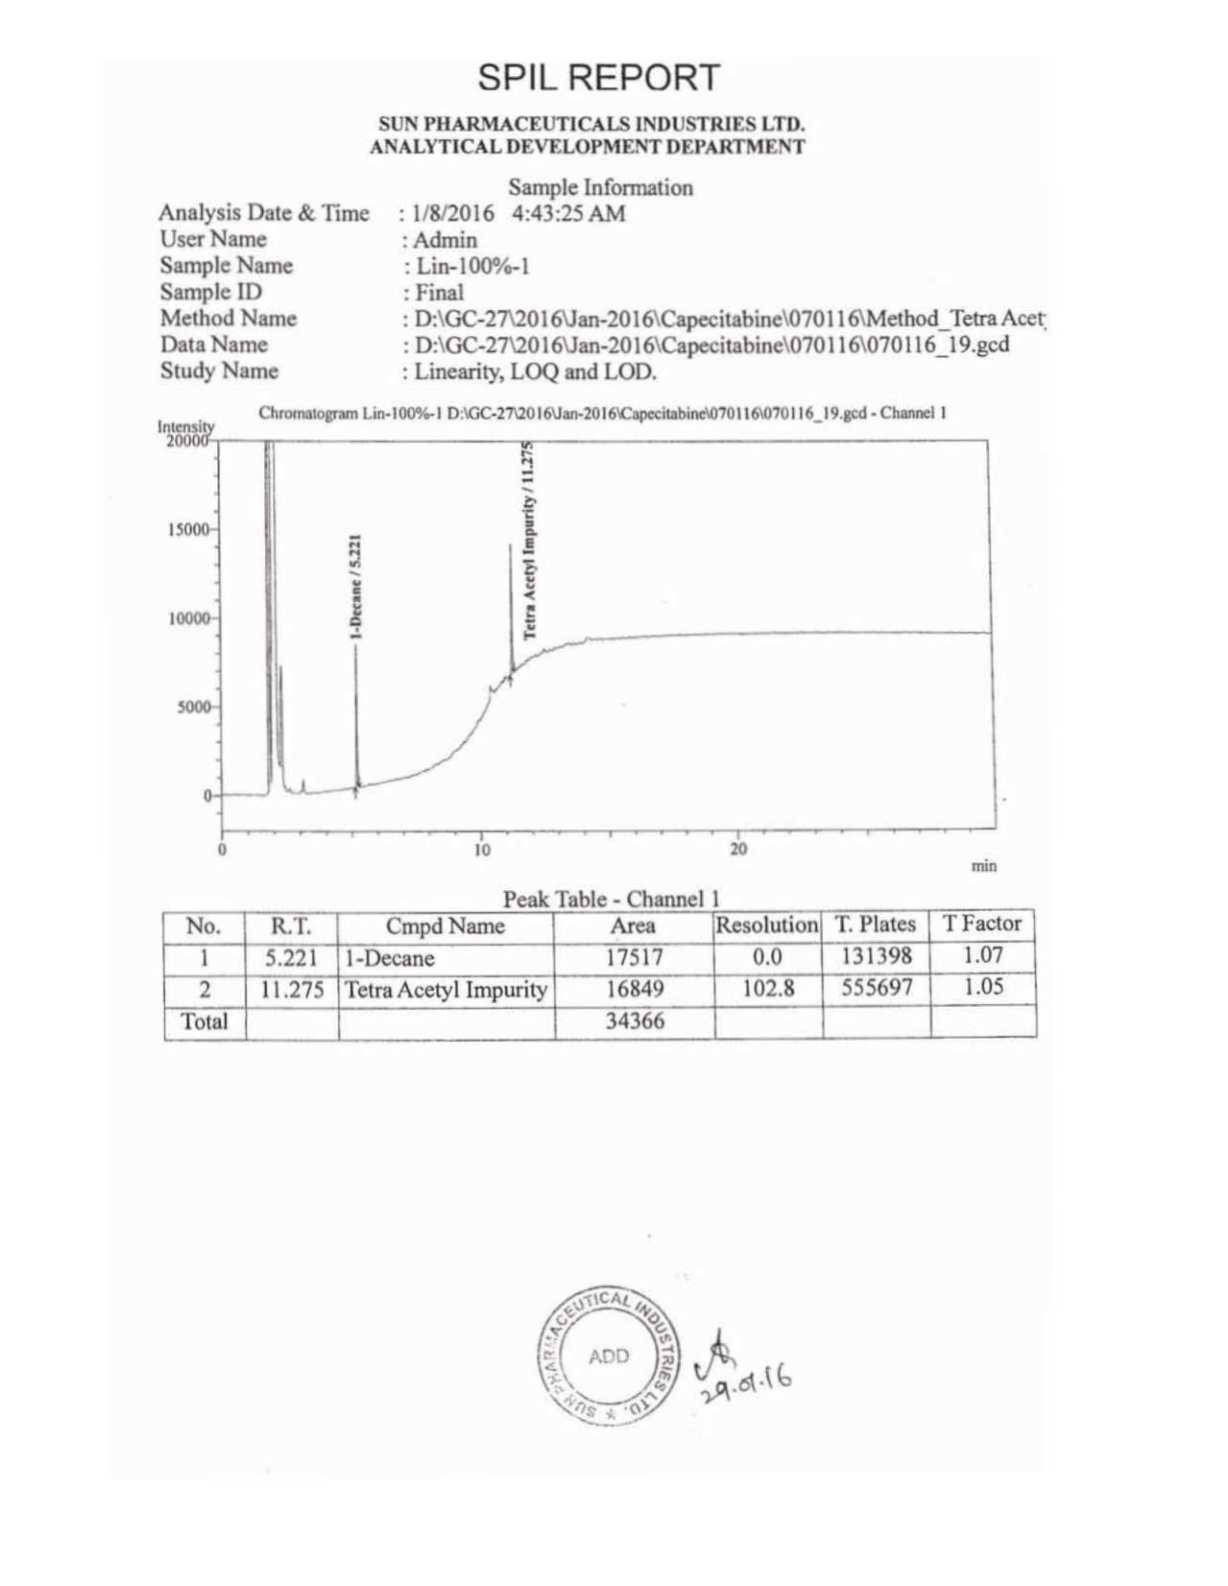full_lined: (161, 908, 1037, 1043)
nolines: (154, 200, 1049, 384)
